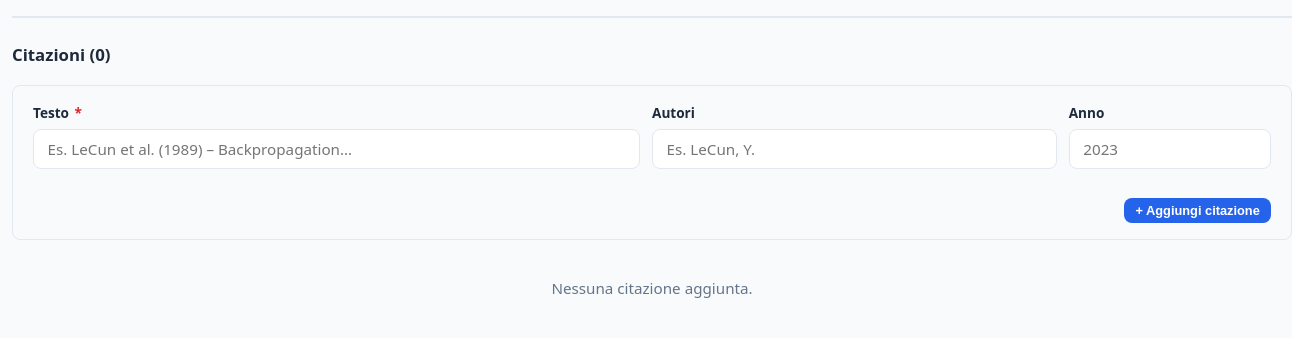
Test: CitationPanel › 4. shows validation error when trying to add empty citation
Click the button "+ Aggiungi citazione" at x=1198, y=211, box [1124,198,1271,223]
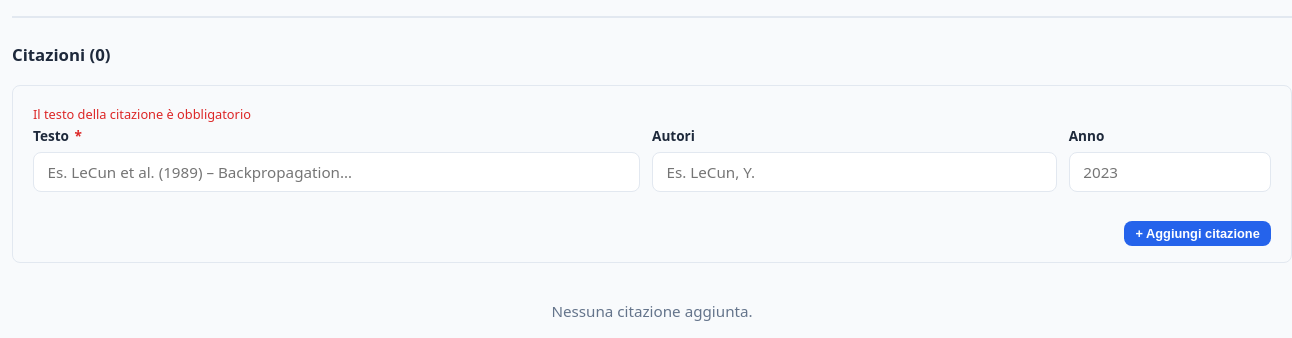
Expected: the text "Il testo della citazione è obbligatorio" is shown, [33,105,251,123]
